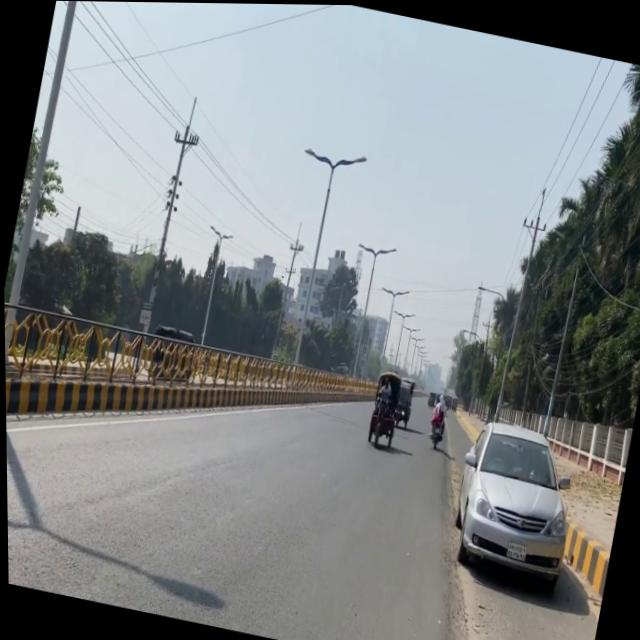Broken-road: (435, 396, 606, 605)
Construction-barrier: (396, 404, 520, 640)
Fallen-tree: (424, 405, 448, 449)
Garbage-bin: (425, 391, 448, 438)
Light-pole: (0, 0, 91, 365)
Pole: (3, 293, 253, 479)
Pothole: (399, 403, 630, 640)
Traffic-cone: (143, 322, 196, 384), (363, 381, 403, 451)
